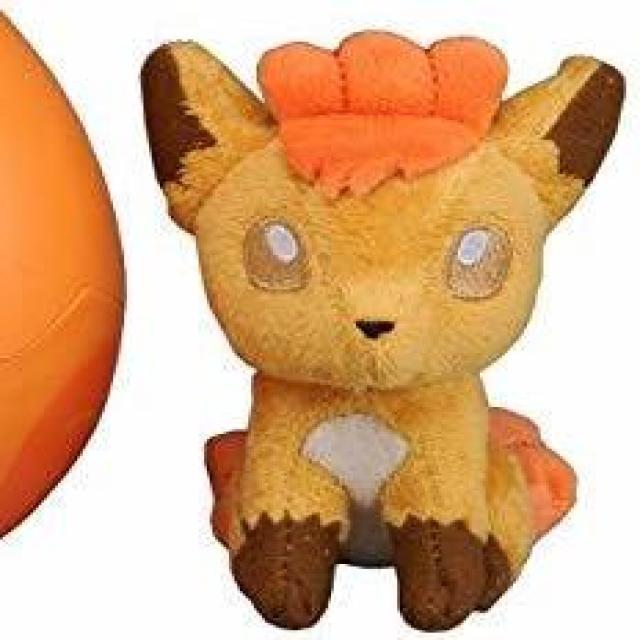Vulpix: (128, 26, 591, 634)
